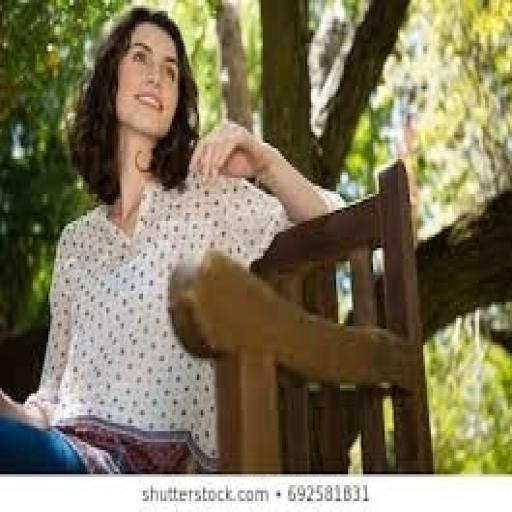sitting: (0, 6, 352, 472)
